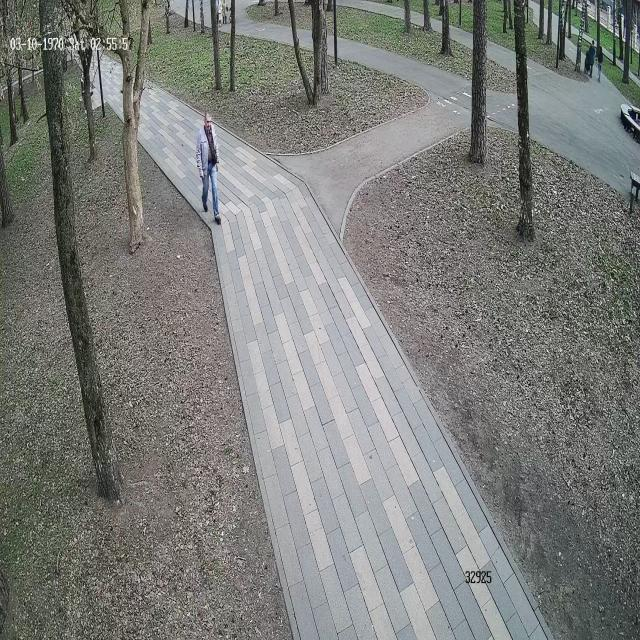person: (196, 110, 221, 226)
